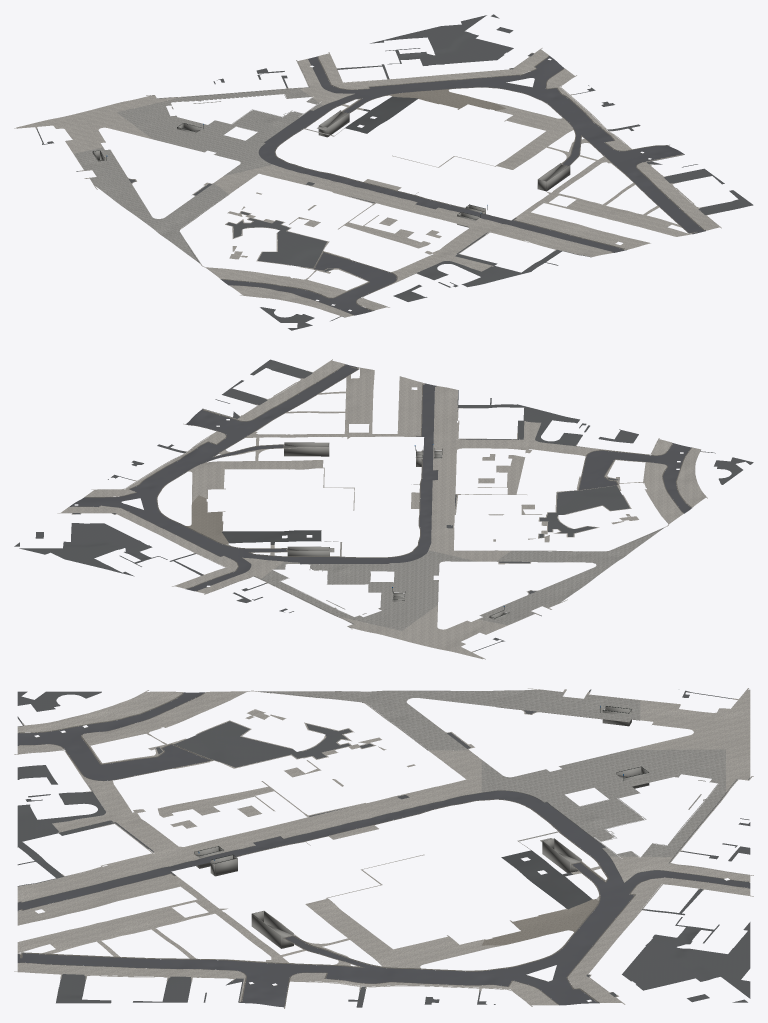
Rendered from street.glb.
3 renders of one model, top to bottom at view 1: azimuth 30°, elevation 25°; view 2: azimuth 150°, elevation 25°; view 3: azimuth 270°, elevation 25°, orthographic. The views are drawn at different scales.
Visible parts, largest first — view 1: street__Ground slabs 3b6841b3, street__Ground asphalt 5cceef0e, street__Ground slabs f833e41b, street__Ground asphalt 61feabfb, street__Ground colour #8F8A82, street__Ground setts 84d7cf54, street__Ground setts e5a0df7b, street__Ground asphalt 3019aa0c; view 2: street__Ground slabs 3b6841b3, street__Ground asphalt 5cceef0e, street__Ground slabs f833e41b, street__Ground asphalt 61feabfb, street__Ground colour #8F8A82, street__Ground setts 84d7cf54, street__Ground asphalt 3019aa0c, street__Ground setts e5a0df7b; view 3: street__Ground slabs 3b6841b3, street__Ground asphalt 5cceef0e, street__Ground slabs f833e41b, street__Ground asphalt 61feabfb, street__Ground colour #8F8A82, street__Ground setts 84d7cf54, street__Ground asphalt 3019aa0c, street__Ground setts e5a0df7b.
Part boxes in pixels (box(x1,y1,x2,y2)): street__Ground slabs 3b6841b3: box(14, 48, 721, 317); street__Ground asphalt 5cceef0e: box(221, 56, 705, 315); street__Ground slabs f833e41b: box(74, 88, 344, 263); street__Ground asphalt 61feabfb: box(36, 14, 753, 330); street__Ground colour #8F8A82: box(92, 56, 705, 311); street__Ground setts 84d7cf54: box(223, 56, 704, 314); street__Ground setts e5a0df7b: box(391, 89, 505, 110); street__Ground asphalt 3019aa0c: box(345, 96, 418, 133); street__Ground slabs 3b6841b3: box(57, 359, 707, 659); street__Ground asphalt 5cceef0e: box(69, 364, 691, 591); street__Ground slabs f833e41b: box(261, 527, 664, 630); street__Ground asphalt 61feabfb: box(14, 359, 753, 650); street__Ground colour #8F8A82: box(84, 364, 690, 619); street__Ground setts 84d7cf54: box(71, 365, 691, 588); street__Ground asphalt 3019aa0c: box(222, 530, 321, 544); street__Ground setts e5a0df7b: box(186, 495, 228, 544); street__Ground slabs 3b6841b3: box(14, 688, 753, 1008); street__Ground asphalt 5cceef0e: box(17, 692, 750, 1007); street__Ground slabs f833e41b: box(258, 690, 725, 857); street__Ground asphalt 61feabfb: box(17, 689, 750, 1007); street__Ground colour #8F8A82: box(18, 692, 749, 1004); street__Ground setts 84d7cf54: box(20, 693, 747, 1005); street__Ground asphalt 3019aa0c: box(501, 850, 591, 909); street__Ground setts e5a0df7b: box(482, 899, 598, 945).
Size of the model in its own units: 303 by 9.08 by 303.
8 materials, 8 textured.
